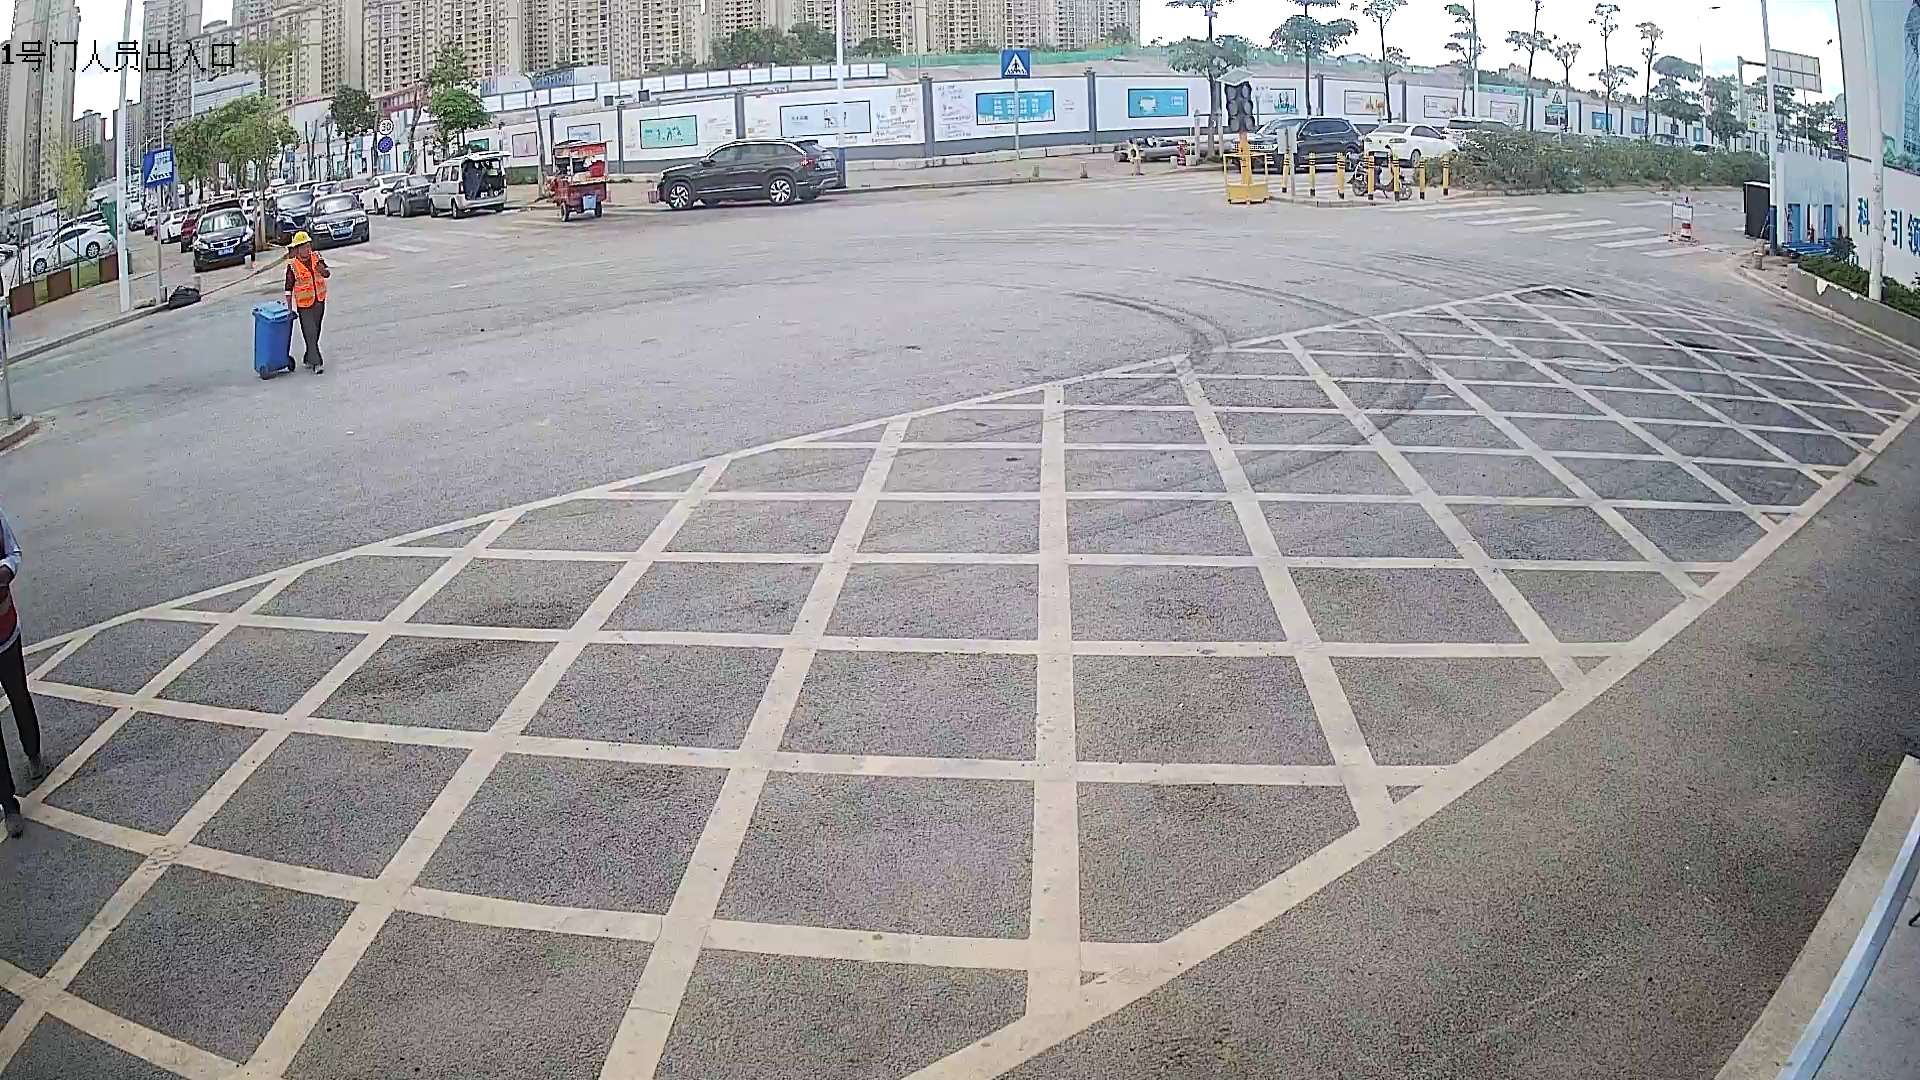person: (283, 230, 332, 376)
reflective_vest: (287, 250, 328, 307)
safety_helmet: (291, 230, 314, 258)
